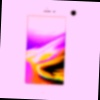iphone: (32, 5, 76, 96)
